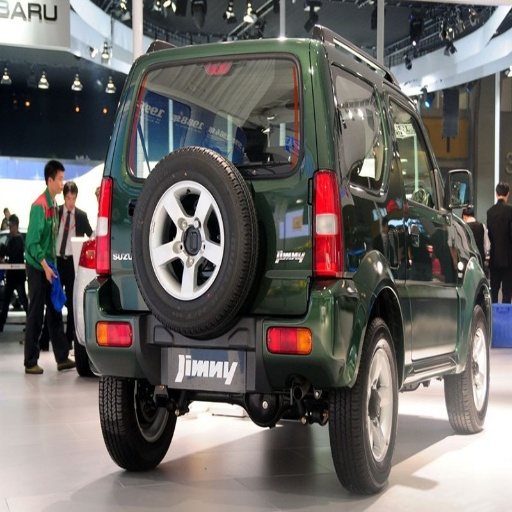back_bumper: (268, 280, 365, 399)
back_right_door: (229, 56, 288, 132), (405, 277, 432, 355)
back_right_light: (314, 210, 343, 280)
